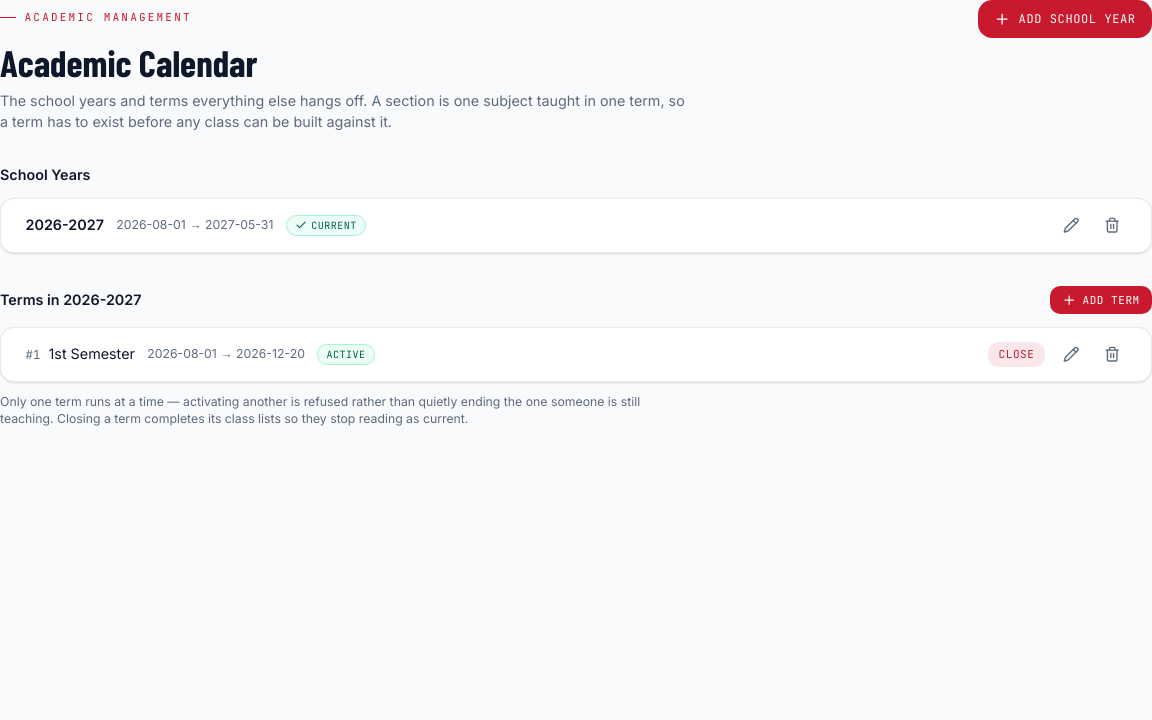
it: Academic Calendar › warns that closing a term completes its class lists before doing it
Click the button "Close". click: (1016, 354)
box: [988,342,1044,367]
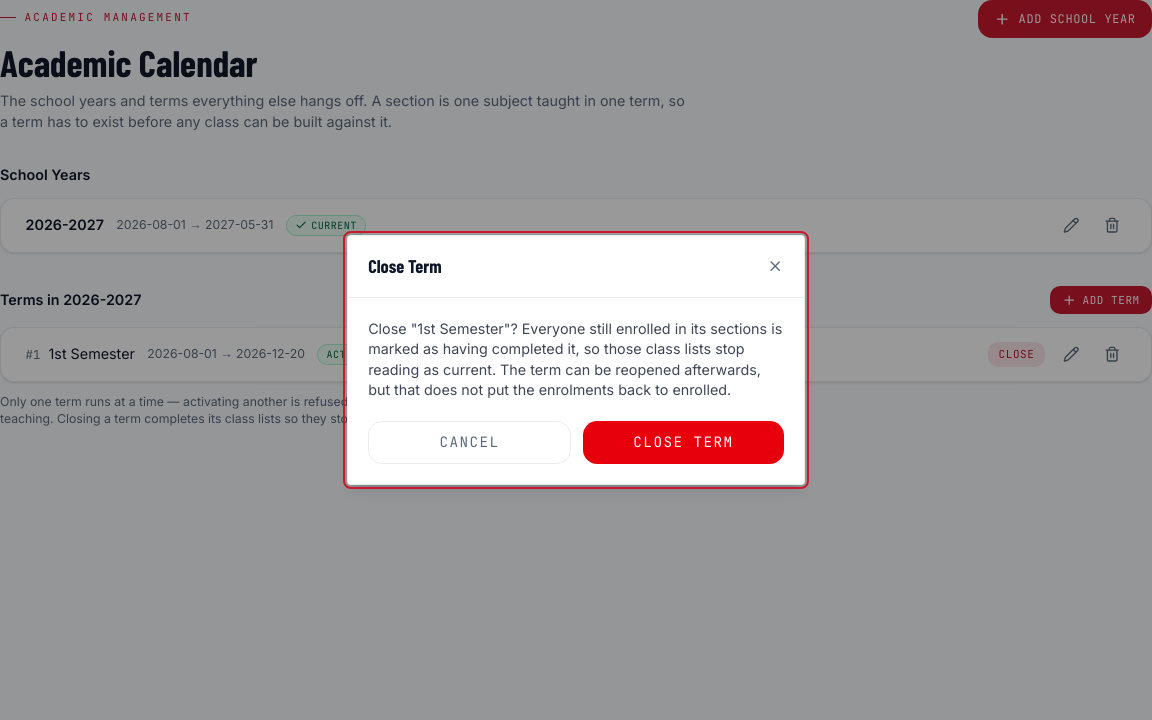
Now the text "marked as having completed it" is shown, box [368,320,782,398]
